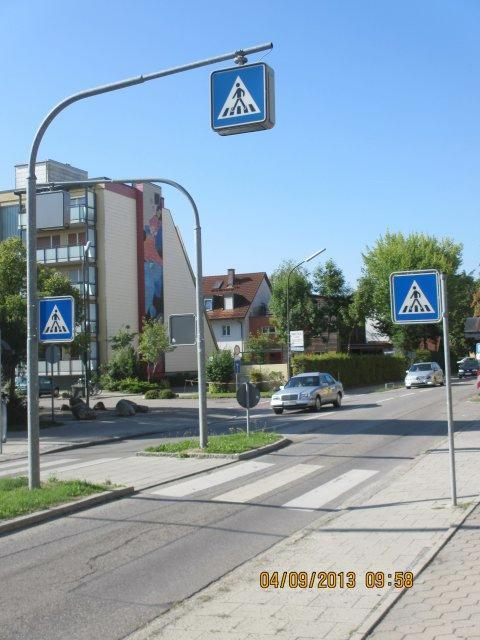crosswalk-sign: (210, 62, 276, 136), (390, 270, 445, 325), (39, 297, 75, 346)
